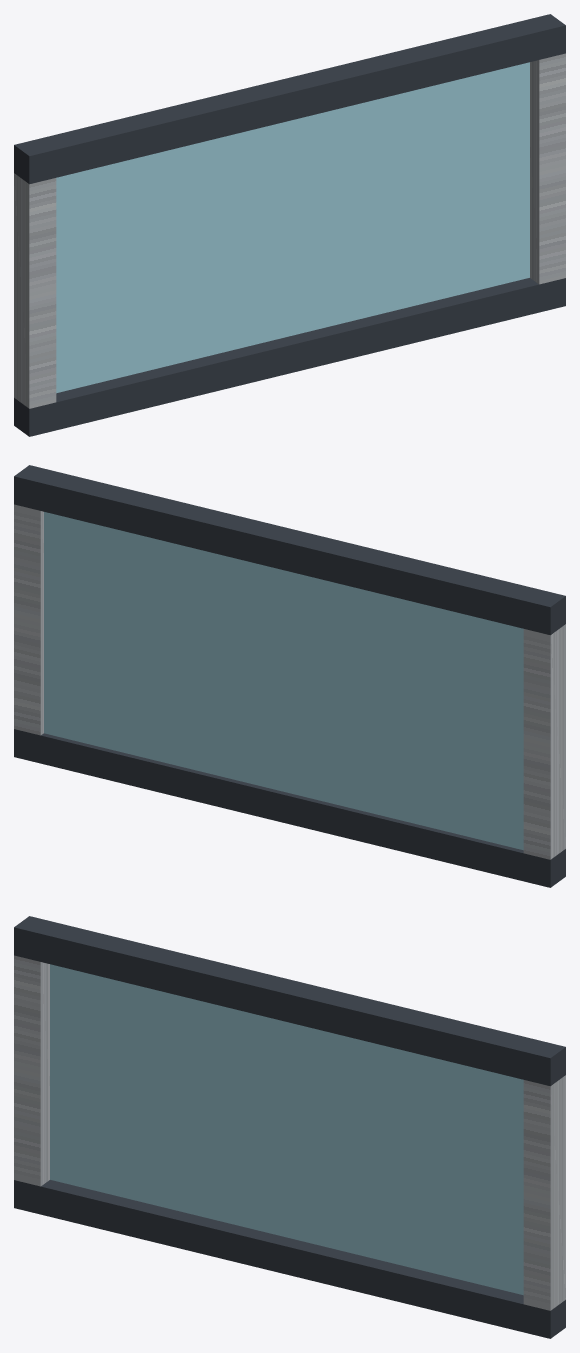
The model's file is glass-2x1.glb.
The picture shows the model from 3 angles, top to bottom: view 1: azimuth 30°, elevation 25°; view 2: azimuth 150°, elevation 25°; view 3: azimuth 330°, elevation 25°; orthographic projection.
Parts seen in each view (by area): view 1: Glass2x1; view 2: Glass2x1; view 3: Glass2x1.
Part boxes in pixels (bbox=[...]): Glass2x1: bbox=[14, 14, 565, 436]; Glass2x1: bbox=[14, 465, 565, 887]; Glass2x1: bbox=[14, 916, 565, 1338].
Bounding box in the file's own units: 2 × 1 × 0.1.
Materials: 3 (1 with a texture image).
